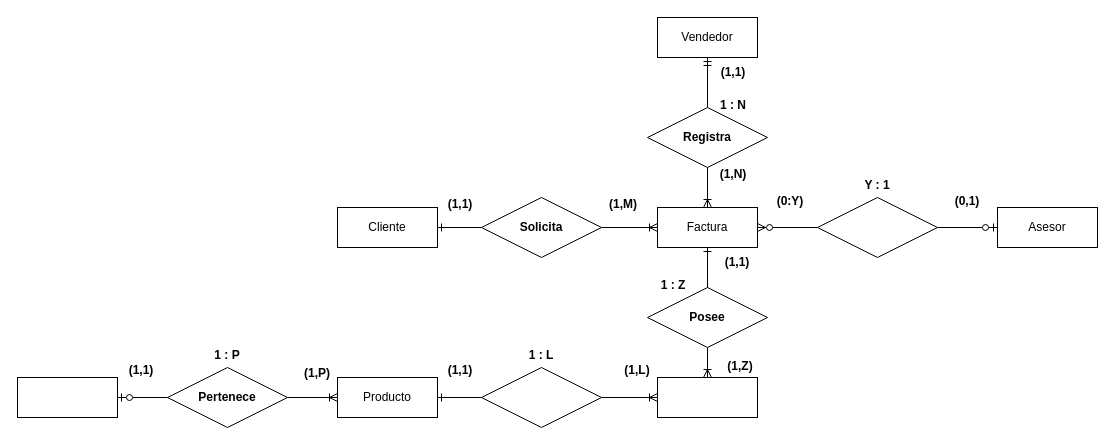
Some shapes in this 1115 by 445 pixel diagram are drawn without their labels. The centre of each missing label's shape, as x and y in pixels:
Asesora: [877,227]
Categoria: [67,397]
Det_Factura: [707,397]
Incluye: [541,397]
